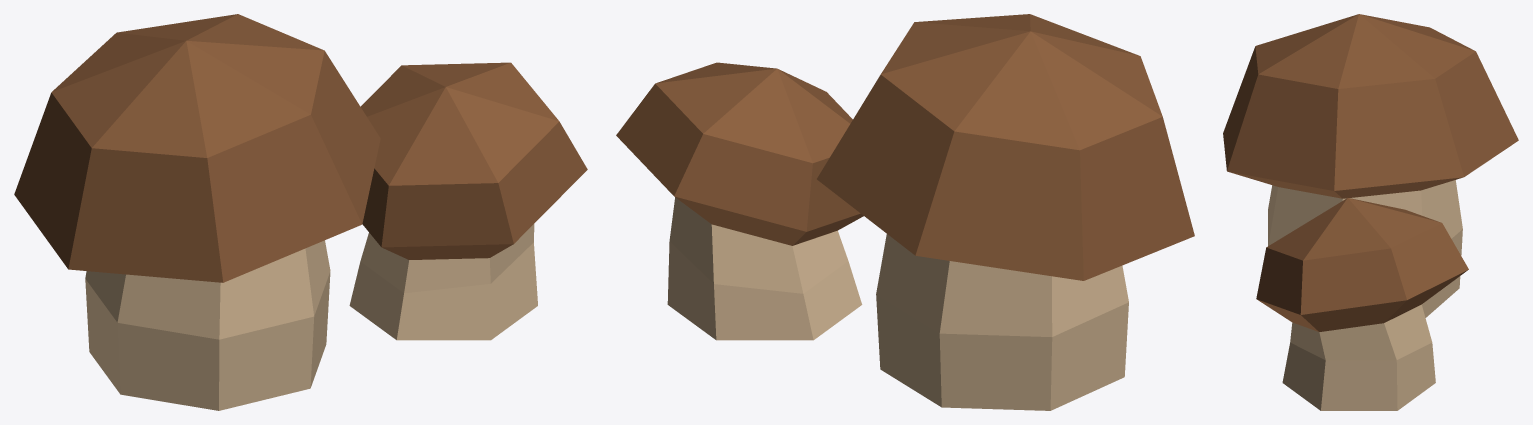
Rendered from mushroom-boletus.glb.
3 views of the same model, side by side, from view 1: azimuth 30°, elevation 25°; view 2: azimuth 150°, elevation 25°; view 3: azimuth 270°, elevation 25° (orthographic). The views are drawn at different scales.
Parts seen in each view (by area): view 1: mushroom-boletus; view 2: mushroom-boletus; view 3: mushroom-boletus.
Part boxes in pixels (box(x1,y1,x2,y2)): mushroom-boletus: box(14, 14, 587, 410); mushroom-boletus: box(616, 14, 1194, 410); mushroom-boletus: box(1223, 14, 1518, 410).
Size of the model in its own units: 0.7686 by 0.4712 by 0.4738.
1 material, 1 textured.
